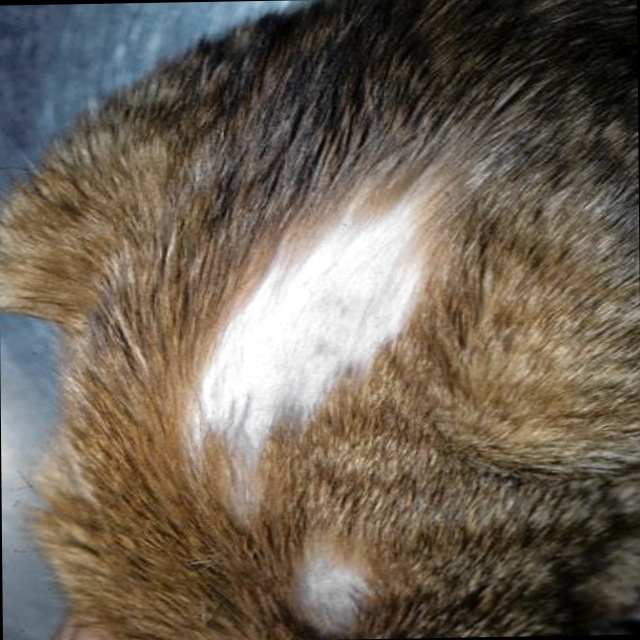hairloss: (193, 202, 440, 472), (299, 571, 358, 630)
